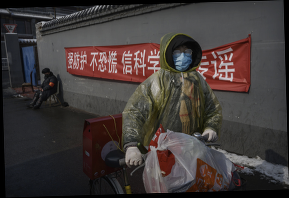with_mask: (172, 45, 194, 72)
